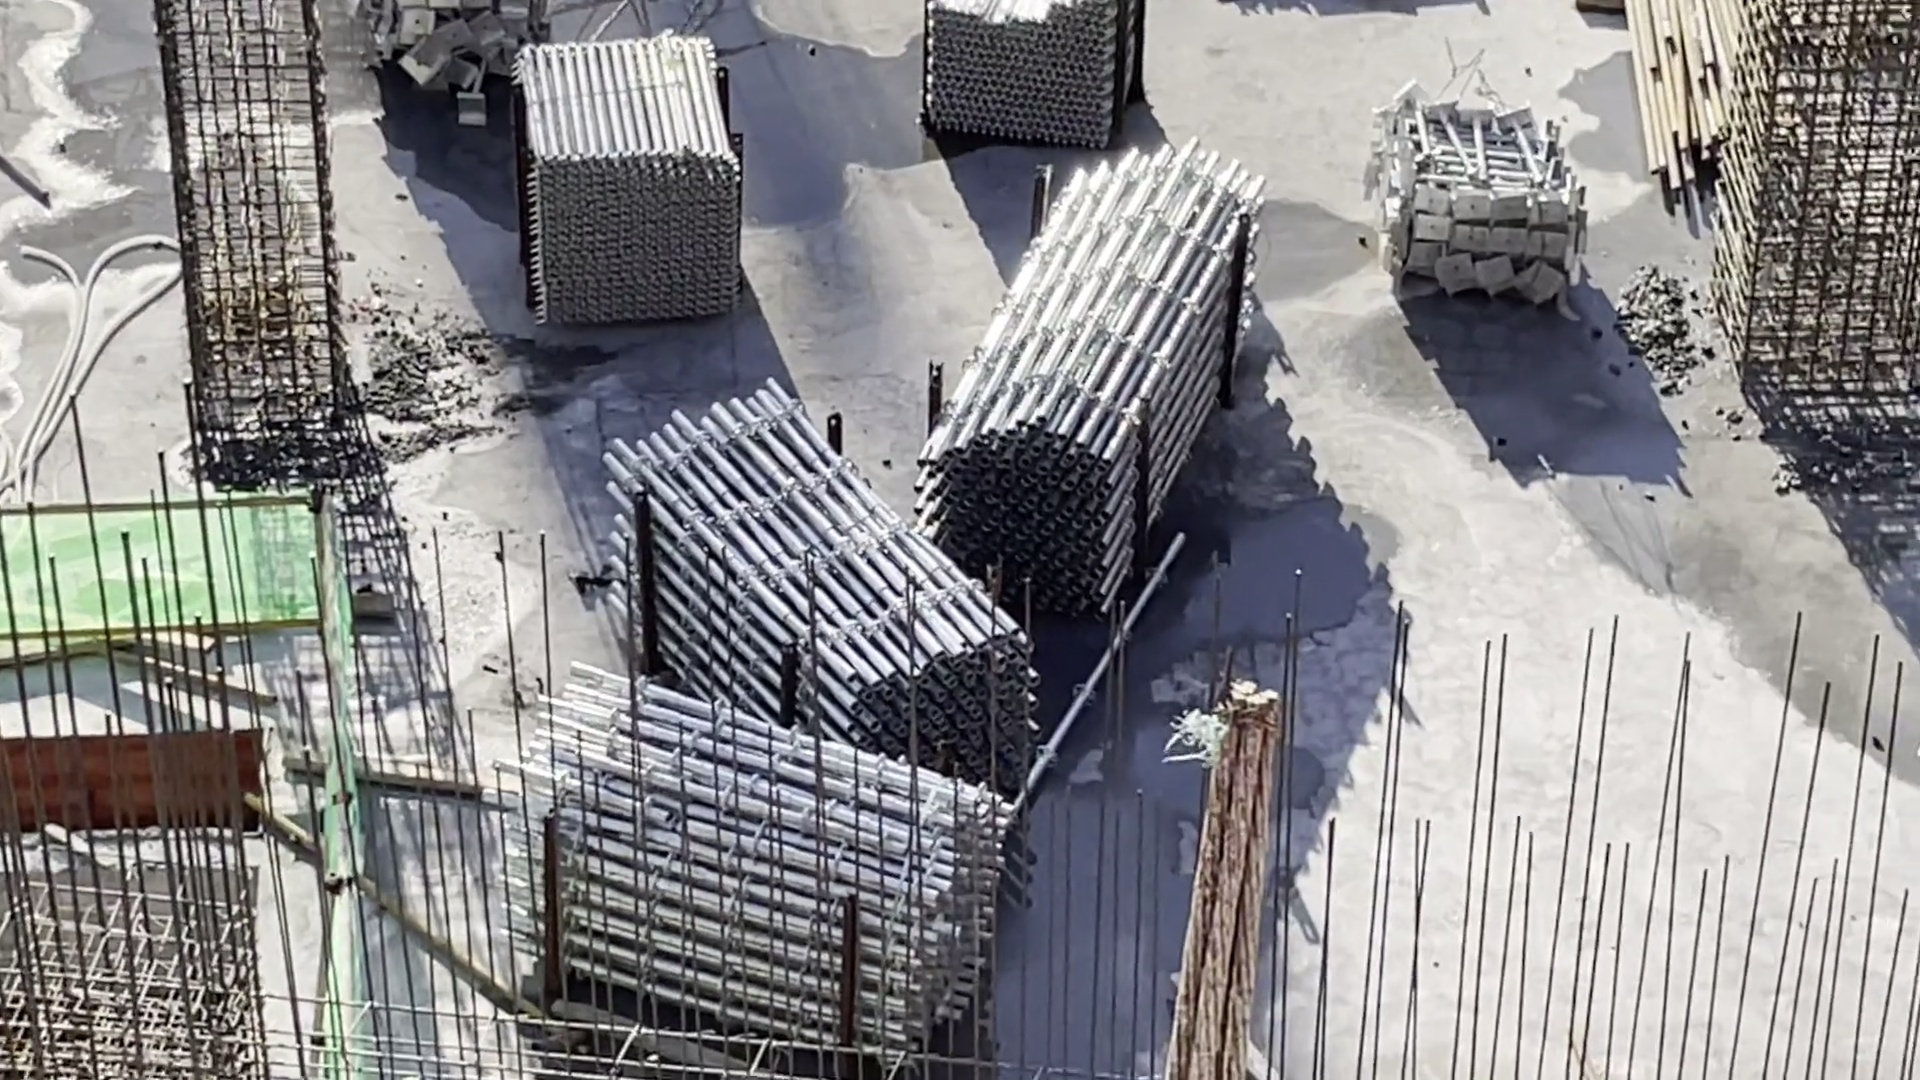scaffold: (609, 405, 1052, 847), (516, 669, 992, 1033), (968, 157, 1258, 611), (516, 49, 728, 326), (1383, 94, 1615, 314), (930, 1, 1150, 149), (378, 1, 543, 142)
